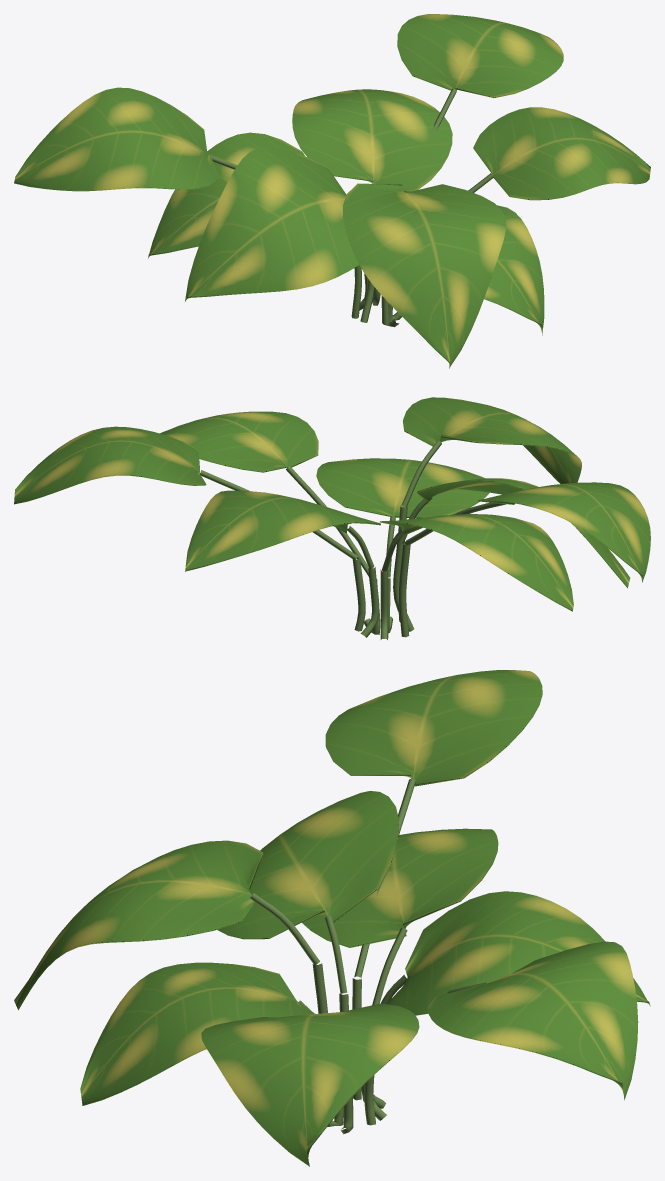
The model's file is pothos-stage-2.glb.
3 views of the same model, one above another, from view 1: azimuth 30°, elevation 25°; view 2: azimuth 150°, elevation 25°; view 3: azimuth 270°, elevation 25° (orthographic). The views are drawn at different scales.
Visible parts, largest first — view 1: Leaf_5, Leaf_2, Leaf_7, Leaf_1, Leaf_3, Leaf_6, Leaf_4, Leaf_0, PlantBranches; view 2: Leaf_6, Leaf_1, Leaf_0, Leaf_4, Leaf_3, Leaf_5, Leaf_7, PlantBranches, Leaf_2; view 3: Leaf_3, Leaf_6, Leaf_7, Leaf_0, Leaf_5, Leaf_2, Leaf_1, Leaf_4, PlantBranches.
Part boxes in pixels (<box>): Leaf_5: <box>343,183,506,368</box>; Leaf_2: <box>185,147,359,301</box>; Leaf_7: <box>14,87,219,191</box>; Leaf_1: <box>292,89,452,191</box>; Leaf_3: <box>473,107,650,200</box>; Leaf_6: <box>397,14,563,97</box>; Leaf_4: <box>148,132,304,258</box>; Leaf_0: <box>484,205,544,335</box>; PlantBranches: <box>210,88,493,327</box>; Leaf_6: <box>14,426,206,504</box>; Leaf_1: <box>185,490,380,571</box>; Leaf_0: <box>316,458,489,518</box>; Leaf_4: <box>379,514,573,611</box>; Leaf_3: <box>160,411,318,472</box>; Leaf_5: <box>403,397,581,483</box>; Leaf_7: <box>477,482,650,582</box>; PlantBranches: <box>200,440,505,639</box>; Leaf_2: <box>417,478,629,588</box>; Leaf_3: <box>201,1003,419,1166</box>; Leaf_6: <box>428,941,638,1100</box>; Leaf_7: <box>325,670,542,786</box>; Leaf_0: <box>80,962,314,1105</box>; Leaf_5: <box>14,840,263,1010</box>; Leaf_2: <box>217,791,398,939</box>; Leaf_1: <box>386,891,650,1015</box>; Leaf_4: <box>302,828,498,947</box>; PlantBranches: <box>250,778,485,1134</box>.
Size of the model in its own units: 2.05 by 0.7999 by 1.51.
2 materials, 1 textured.
